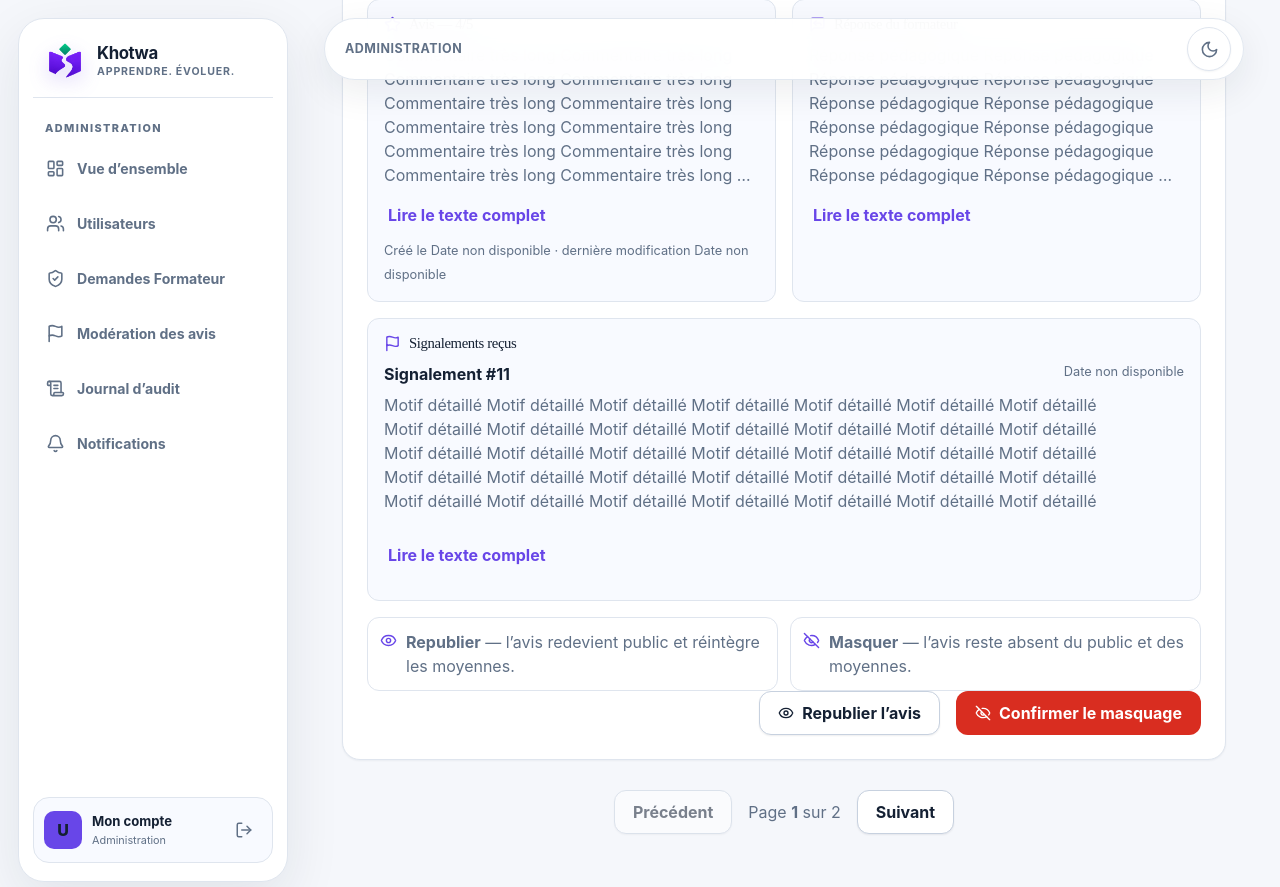
Test: workflow de modération Admin › parcourt les dossiers complets avec les contrôles Précédent et Suivant
The image size is (1280, 887).
(page scrolled)
expect the button "Précédent" is disabled: met, box [614,790,732,834]
Step 1. Click the button "Suivant" → [905, 812], box [857,790,954,834]
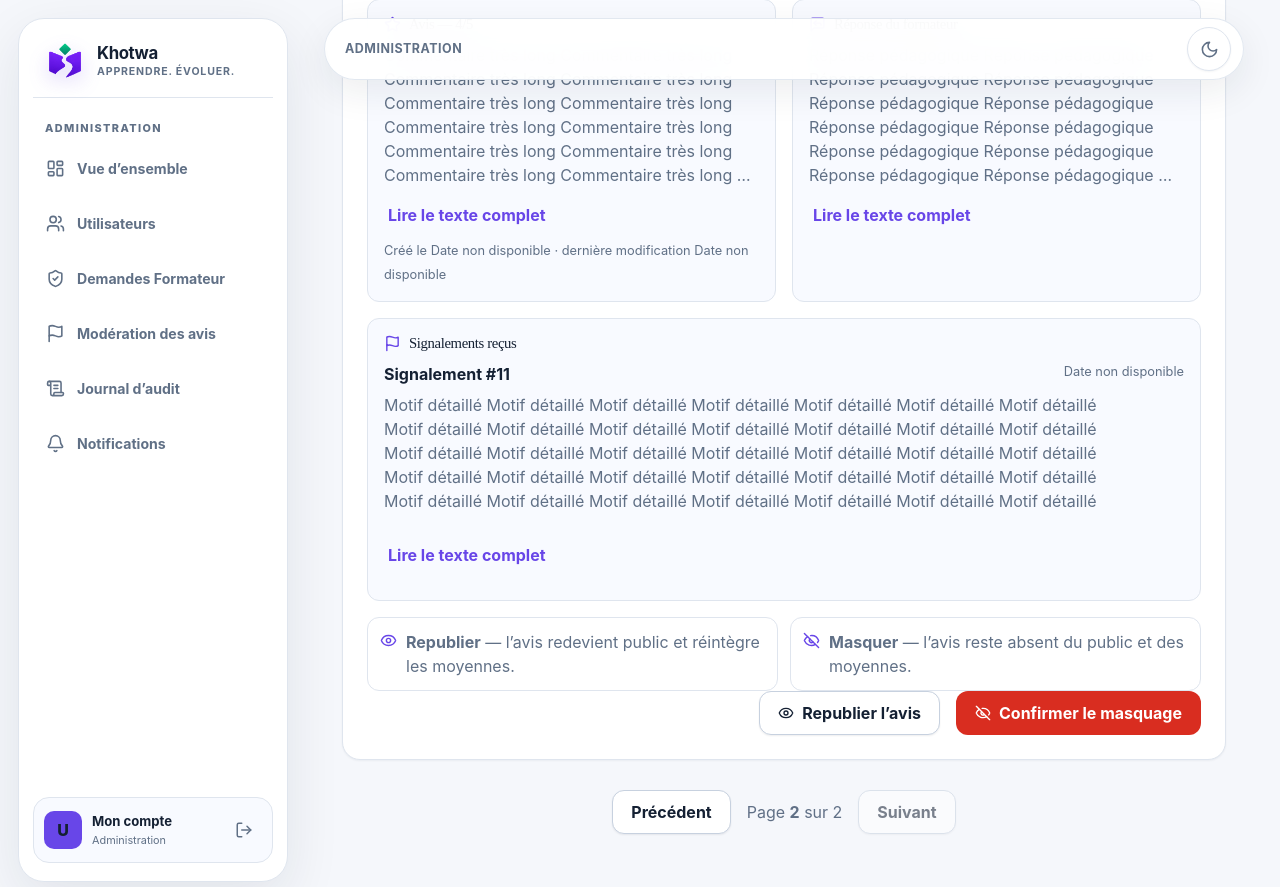
Step 2. Click the button "Précédent" → [672, 812], box [612,790,731,834]
(page scrolled)
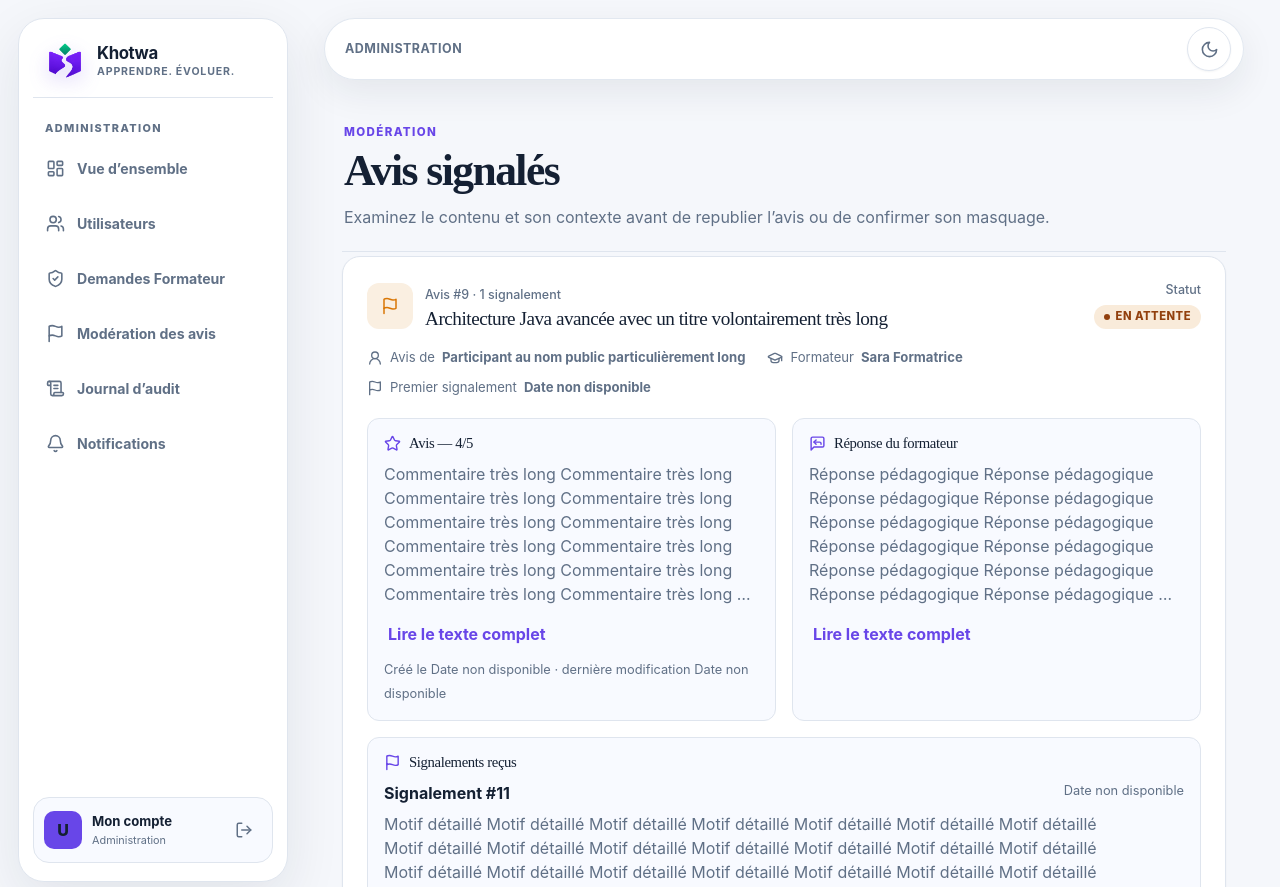
expect the heading "Architecture Java avancée avec un titre volontairement très long" is shown: met, box [425,308,888,330]
